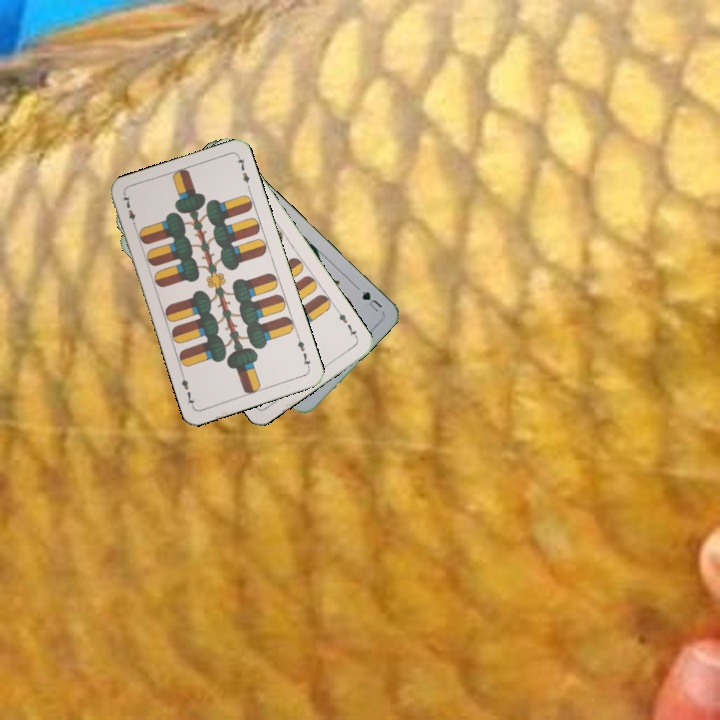E7: (334, 306, 361, 342), (293, 332, 313, 372), (119, 191, 139, 230)
GU: (358, 287, 385, 315)
